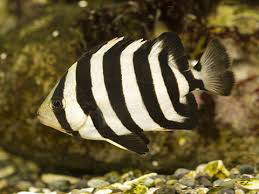azi: (41, 37, 234, 150)
